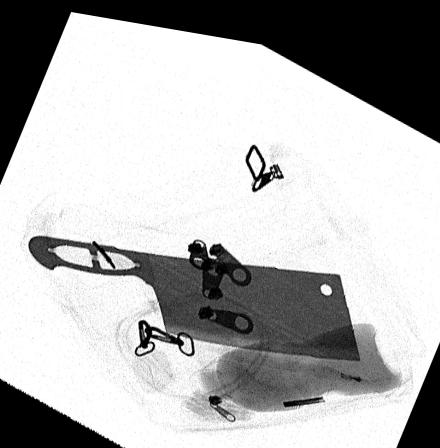Knife: (21, 232, 361, 348)
